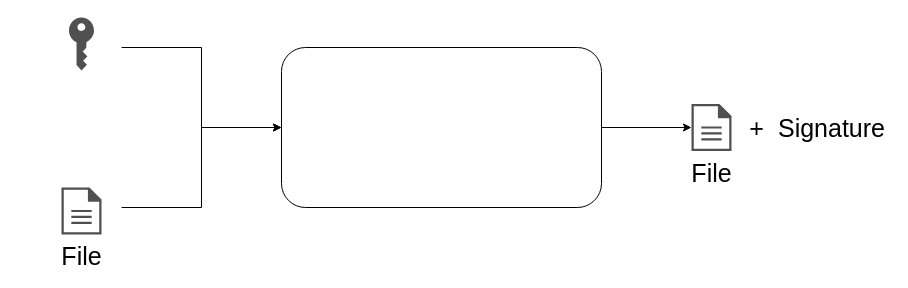
Image size: 908x288. Some labels were removed from this diagram. The box of each missing label's shape, as (x1, y1, x2, y2) in pixels:
Private Key: (68, 17, 94, 70)
Sign: (280, 46, 602, 208)
